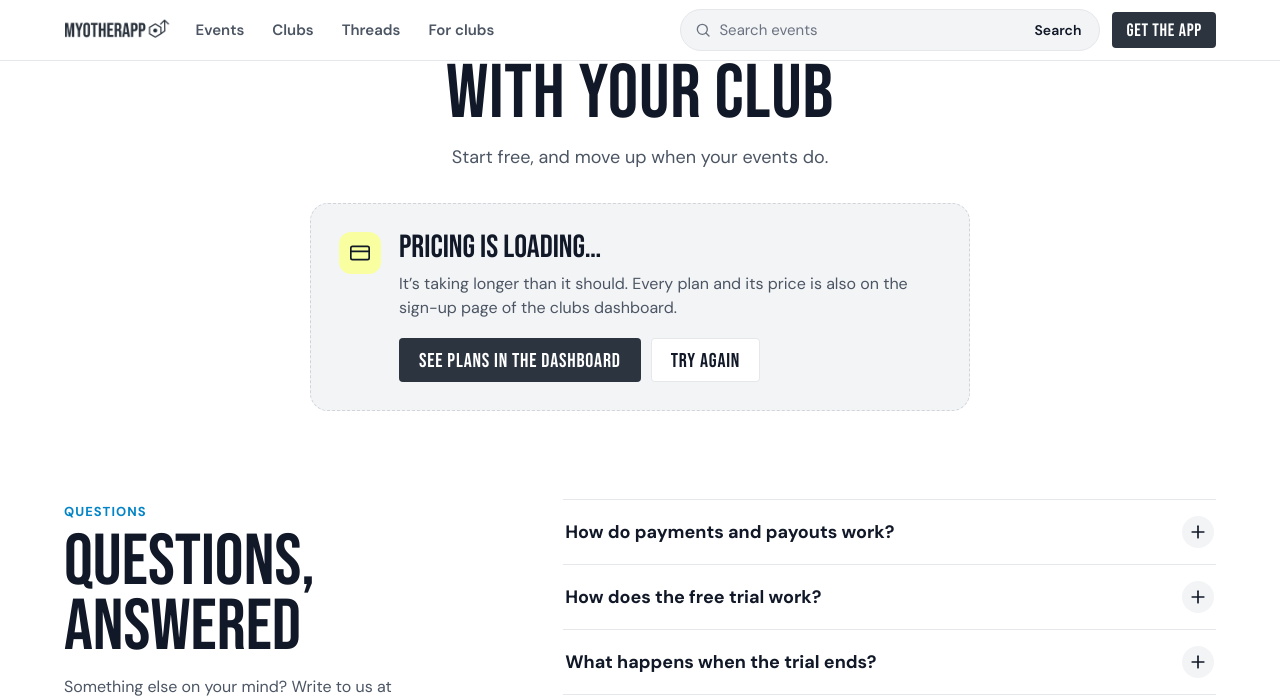
it: /for-clubs › still sells, with a calm word about the plans, when the server couldn't read them
(page scrolled)
Expected: the heading "Pricing is loading…" is shown, [399,228,601,267]
Click the button "Try again" at point(705, 360), box [651,338,760,382]
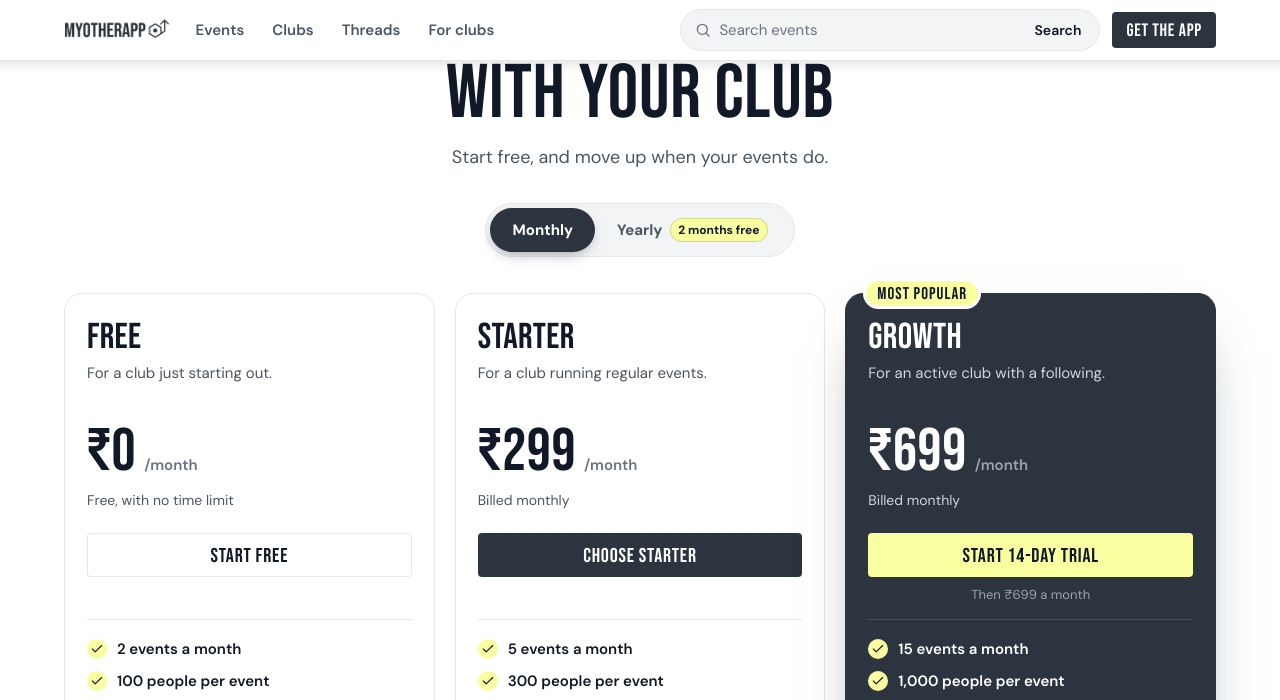
Expected: the text "Most popular" is shown, [866,281,978,306]
